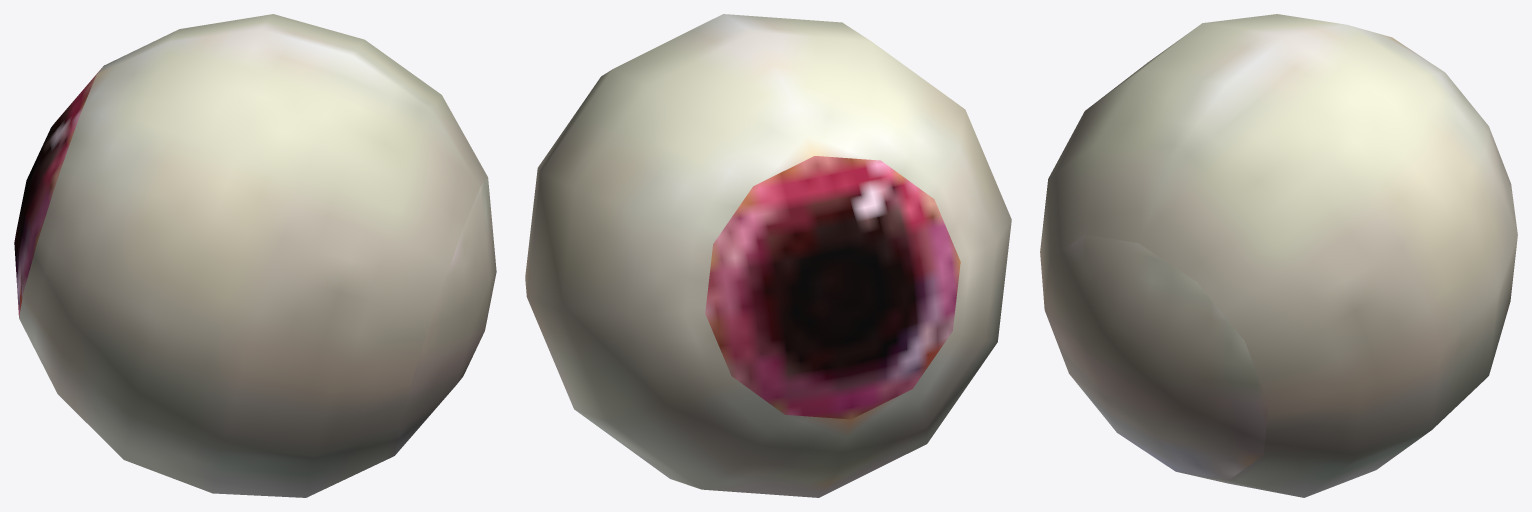
Rendered from crate-iron-lod0.glb.
The picture shows the model from 3 angles, left to right: view 1: azimuth 30°, elevation 25°; view 2: azimuth 150°, elevation 25°; view 3: azimuth 270°, elevation 25°; orthographic projection.
Parts seen in each view (by area): view 1: EyeScream.001; view 2: EyeScream.001; view 3: EyeScream.001.
Part boxes in pixels (left/top/right/bottom): EyeScream.001: left=14, top=14, right=496, bottom=497; EyeScream.001: left=525, top=14, right=1011, bottom=497; EyeScream.001: left=1040, top=14, right=1517, bottom=497.
Size of the model in its own units: 3.06 by 3.08 by 3.05.
1 material, 1 textured.
